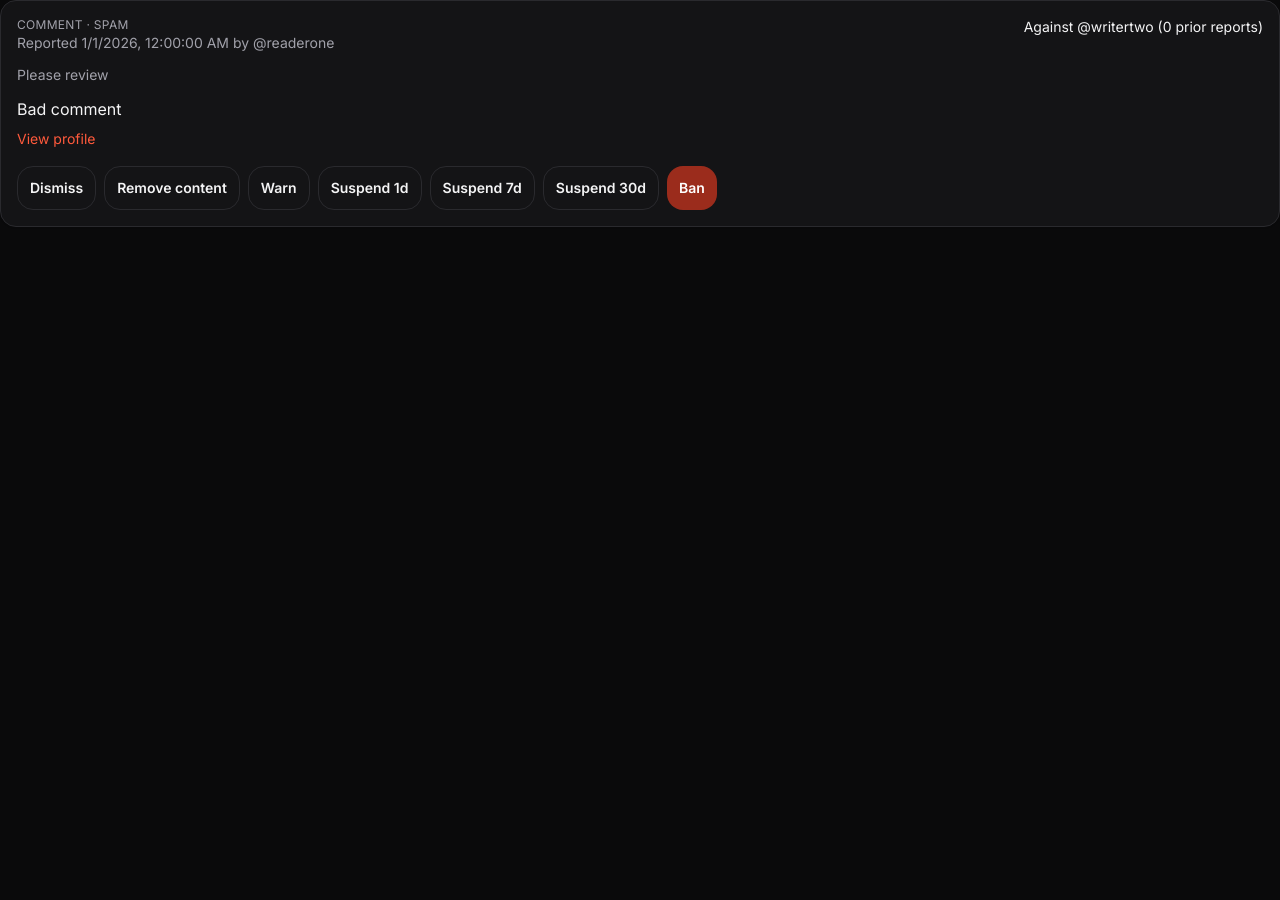
Test: FounderReportCard › opens dismiss reason modal
Step 1. Click the button "Dismiss" → (57, 188), box x1=17 y1=166 x2=96 y2=210
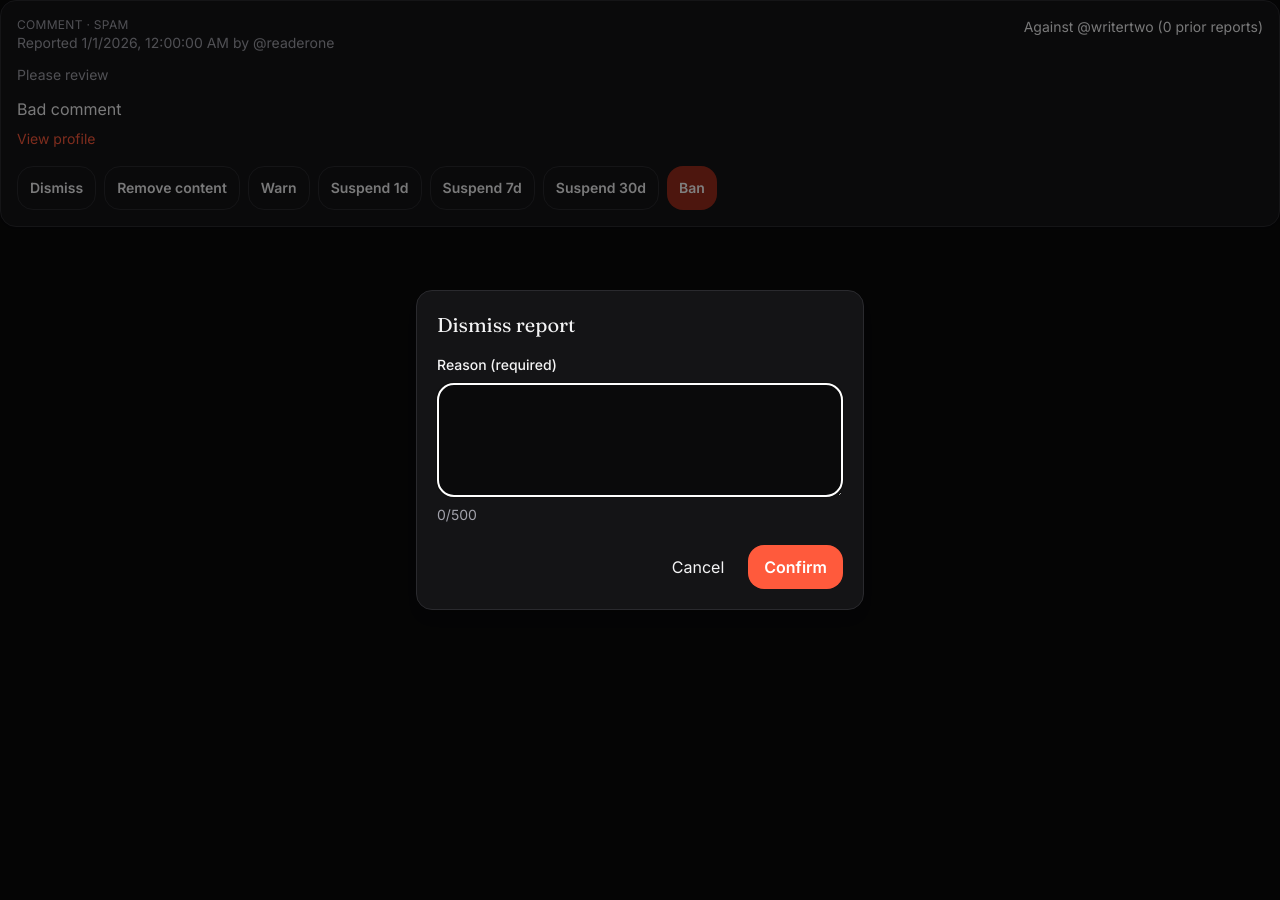
Now the heading "Dismiss report" is shown, box x1=437 y1=312 x2=575 y2=337
